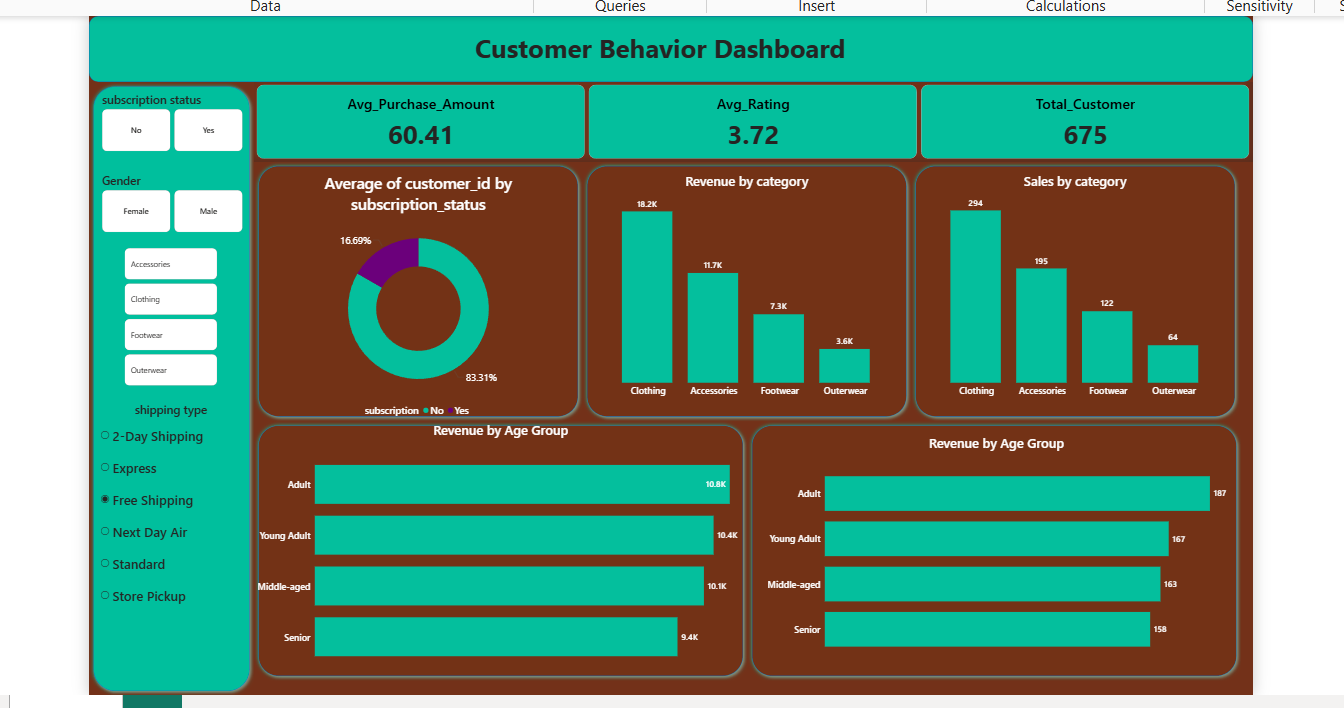

What the dashboard file says about the page in this screenshot:
{"tool":"powerbi","page":{"name":"Page 1","canvas":[2400,1400],"ordinal":0},"visuals":[{"type":"cardVisual","fields":{"Data":["Dax.Avg_Purchase_Amount","Dax.Avg_Rating","Dax.Total_Customer"]},"box":[340.2,136.1,2059.8,163.9],"z":0},{"type":"shape","box":[0,0,2400.1,136.1],"z":1000},{"type":"textbox","box":[299.6,23.9,1264.5,92.8],"z":2000},{"type":"shape","box":[0,136.1,340.2,1265],"z":3000},{"type":"shape","box":[340.2,300,677.3,535.1],"z":4000},{"type":"shape","box":[1017.5,300,677.3,535.1],"z":5000},{"type":"shape","box":[1694.9,300,677.3,535.1],"z":6000},{"type":"shape","box":[340.2,835.1,1017.5,535.1],"z":7000},{"type":"shape","box":[1357.8,835.1,1017.5,535.1],"z":8000},{"type":"donutChart","fields":{"Category":["public customer.subscription_status"],"Y":["Avg(public customer.customer_id)"]},"box":[340.2,321.7,677.3,513.4],"z":9000},{"type":"clusteredColumnChart","title":"Revenue by category","fields":{"Y":["Sum(public customer.purchase_amount)"],"Category":["public customer.category"]},"box":[1039.2,321.7,634,473.2],"z":10000},{"type":"clusteredColumnChart","title":"Sales by category","fields":{"Category":["public customer.category"],"Y":["CountNonNull(public customer.customer_id)"]},"box":[1716.5,321.7,634,473.2],"z":11000},{"type":"advancedSlicerVisual","title":"subscription status","fields":{"Values":["public customer.subscription_status"]},"box":[21.6,154.6,300,129.9],"z":12000},{"type":"advancedSlicerVisual","title":"Gender","fields":{"Values":["public customer.gender"]},"box":[21.6,321.7,300,129.9],"z":13000},{"type":"advancedSlicerVisual","fields":{"Values":["public customer.category"]},"box":[68,473.2,201,296.9],"z":14000},{"type":"listSlicer","fields":{"Values":["public customer.shipping_type"]},"box":[18.6,794.9,300,575.3],"z":15000},{"type":"clusteredBarChart","title":"Revenue by Age Group","fields":{"Category":["public customer.age_group"],"Y":["Sum(public customer.purchase_amount)"]},"box":[340.2,835.1,1017.5,535.1],"z":16000},{"type":"clusteredBarChart","title":"Revenue by Age Group","fields":{"Category":["public customer.age_group"],"Y":["CountNonNull(public customer.customer_id)"]},"box":[1391.8,862.9,958.8,482.5],"z":17000}]}

Visuals, with their boxes in screenshot pixels (x1, y1, x2, y2):
cardVisual - Dax.Avg_Purchase_Amount x Dax.Avg_Rating: (89, 78, 1115, 160)
shape: (0, 10, 1115, 78)
textbox: (69, 22, 698, 69)
shape: (0, 78, 89, 707)
shape: (89, 160, 426, 426)
shape: (426, 160, 764, 426)
shape: (764, 160, 1101, 426)
shape: (89, 426, 596, 693)
shape: (596, 426, 1102, 693)
donutChart - public customer.subscription_status x Avg(public customer.customer_id): (89, 171, 426, 426)
"Revenue by category" clusteredColumnChart: (437, 171, 753, 406)
"Sales by category" clusteredColumnChart: (774, 171, 1090, 406)
"subscription status" advancedSlicerVisual: (0, 87, 80, 152)
"Gender" advancedSlicerVisual: (0, 171, 80, 235)
advancedSlicerVisual - public customer.category: (0, 246, 53, 394)
listSlicer - public customer.shipping_type: (0, 406, 78, 693)
"Revenue by Age Group" clusteredBarChart: (89, 426, 596, 693)
"Revenue by Age Group" clusteredBarChart: (613, 440, 1090, 681)
